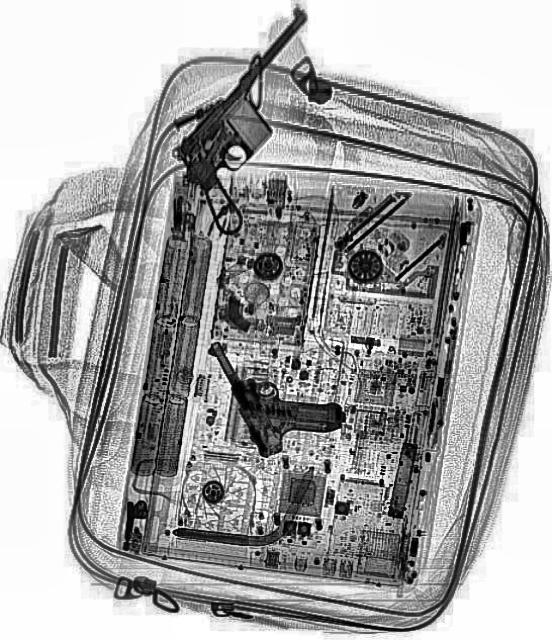Gun: (154, 3, 372, 239), (201, 298, 349, 470)
